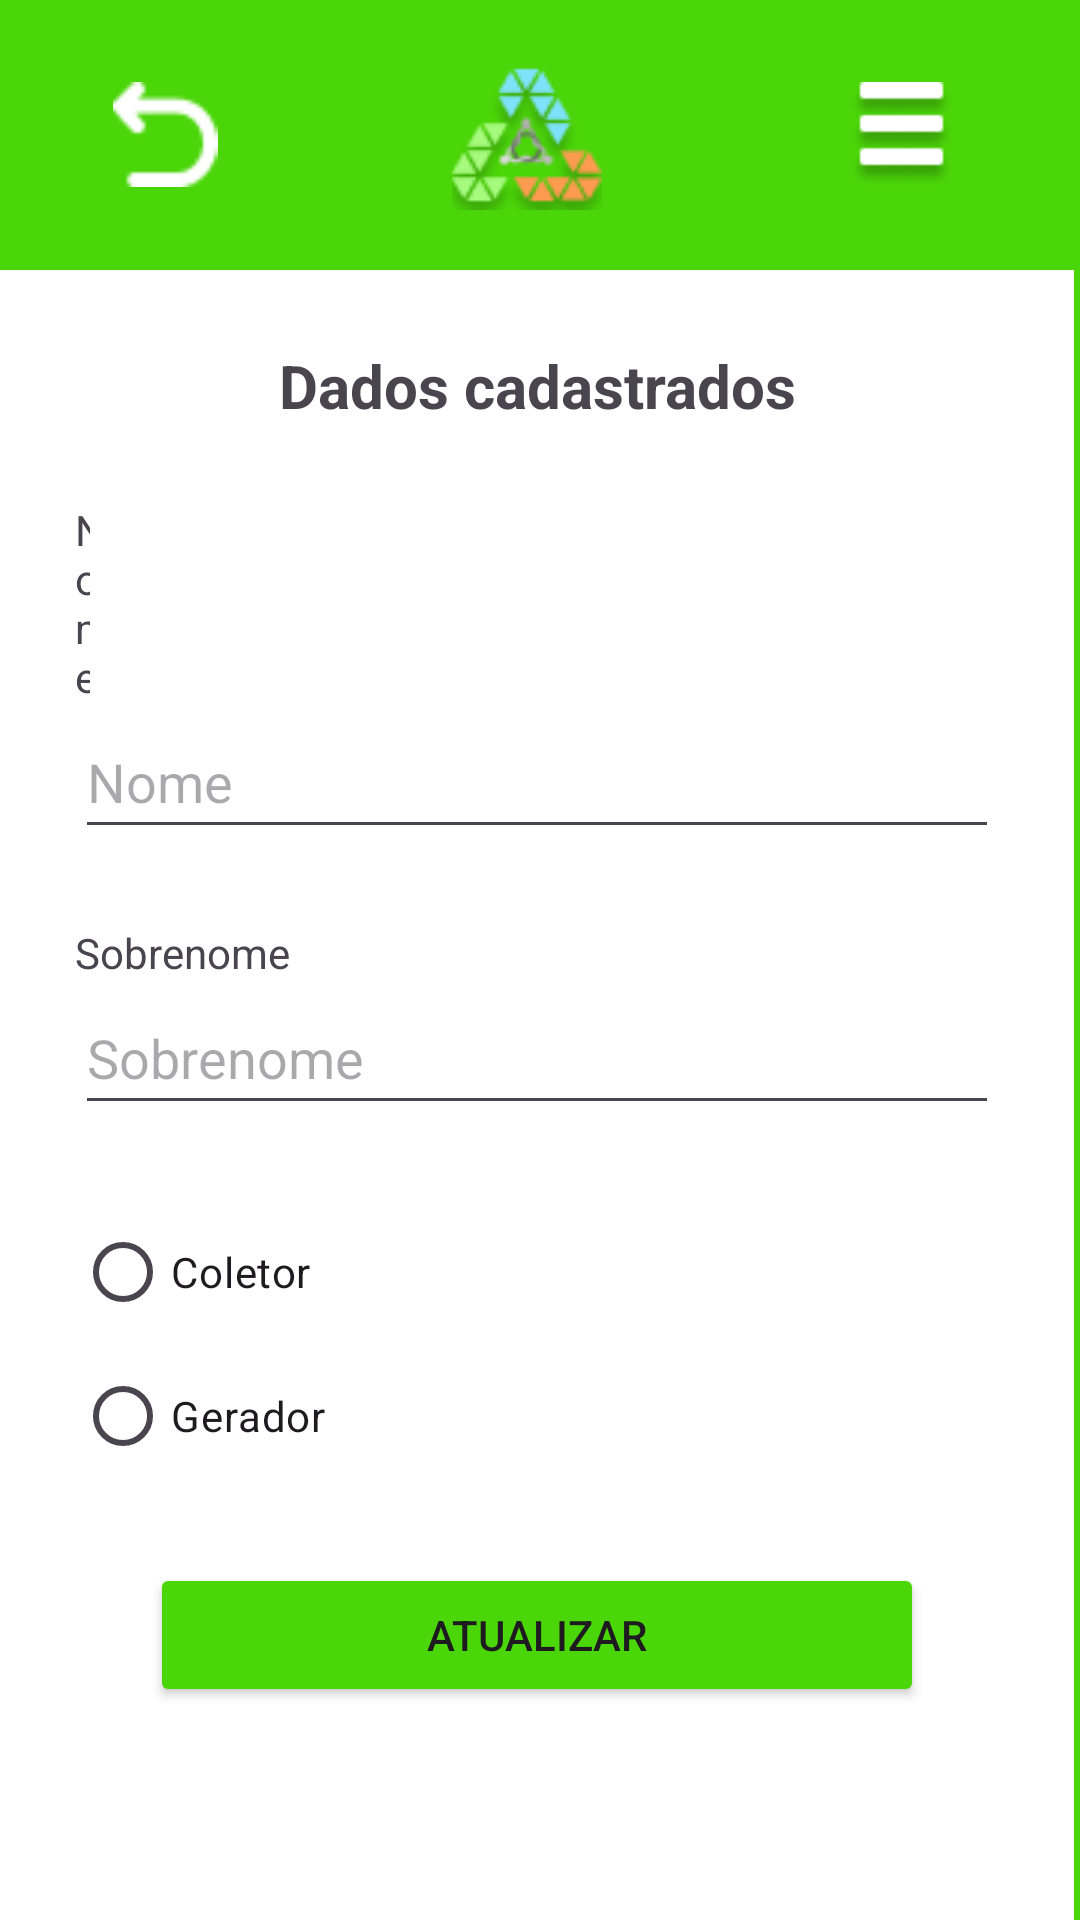

Icon bounding boxes for this 1080*1920 phone screenshot, format {"left": x1, "top": y1, "right": x2, "bottom": y2}:
voltar: {"left": 113, "top": 82, "right": 218, "bottom": 187}
